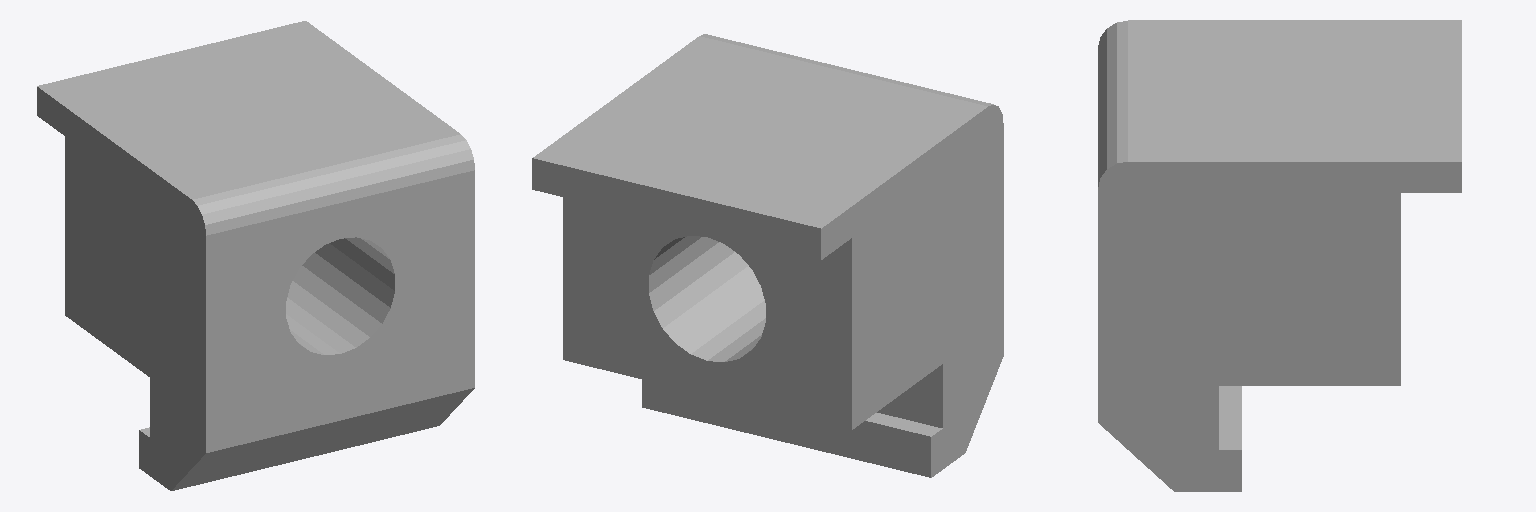
robot.urdf — root:
<?xml version='1.0' encoding='utf-8'?>
<robot name="root">
  <link name="link_001">
    <visual>
      <origin xyz="0 0 0" rpy="0 0 0" />
      <geometry>
        <mesh filename="b32f43298291e693acdaa25ce89434295549ee2ecaf58bb0588f87be35079572_scale_001.stl" scale="1.0000E+00 1.0000E+00 1.0000E+00" />
      </geometry>
      <material name="">
        <color rgba="7.50E-01 7.50E-01 7.50E-01 1" />
      </material>
    </visual>
    <collision>
      <origin xyz="0 0 0" rpy="0 0 0" />
      <geometry>
        <mesh filename="b32f43298291e693acdaa25ce89434295549ee2ecaf58bb0588f87be35079572_scale_001.stl" scale="1.0000E+00 1.0000E+00 1.0000E+00" />
      </geometry>
    </collision>
  </link>
</robot>

--- Facts derived from the render (not from the file) ---
Views: 3 orthographic renders of the robot side by side, from view 1: azimuth 30°, elevation 25°; view 2: azimuth 150°, elevation 25°; view 3: azimuth 270°, elevation 25°.
Robot: root — 1 links, 0 joints (none); root link link_001; default pose: every joint at zero.
Links seen in each view (by area): view 1: link_001; view 2: link_001; view 3: link_001.
Boxes of the visible links, x1,y1,x2,y2 form: link_001: (37,21,474,490); link_001: (532,34,1003,477); link_001: (1098,20,1461,491).
Size in the robot's own frame: 0.11 by 0.12 by 0.12 metres.
1 mesh visuals loaded from 1 distinct referenced files (1 binary STL).
